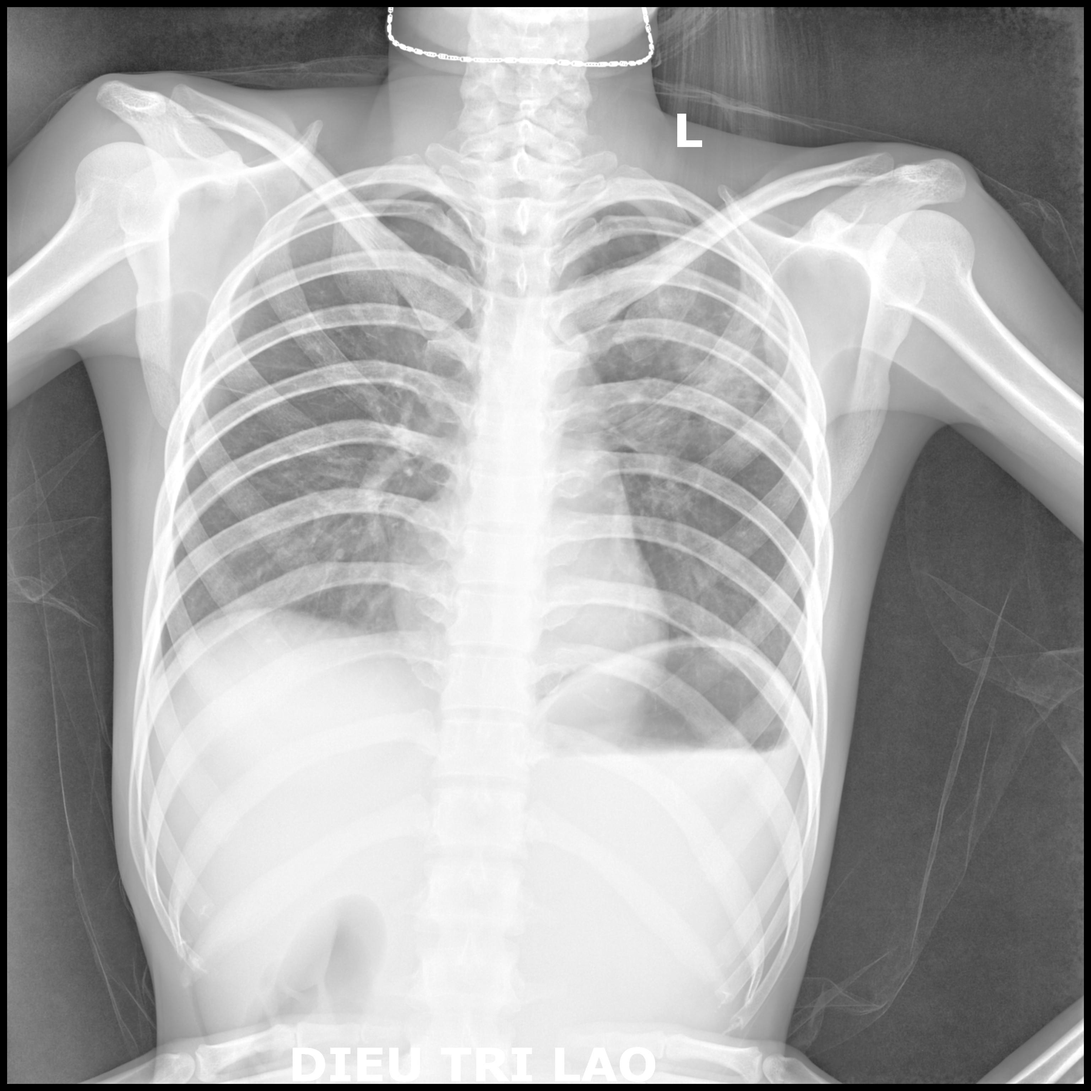Pulmonary fibrosis: (615, 282, 766, 481)
